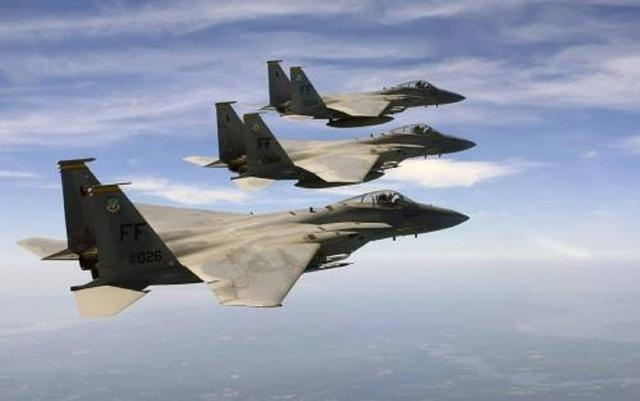airplane: (19, 148, 473, 317), (179, 97, 477, 187), (251, 53, 469, 128)
